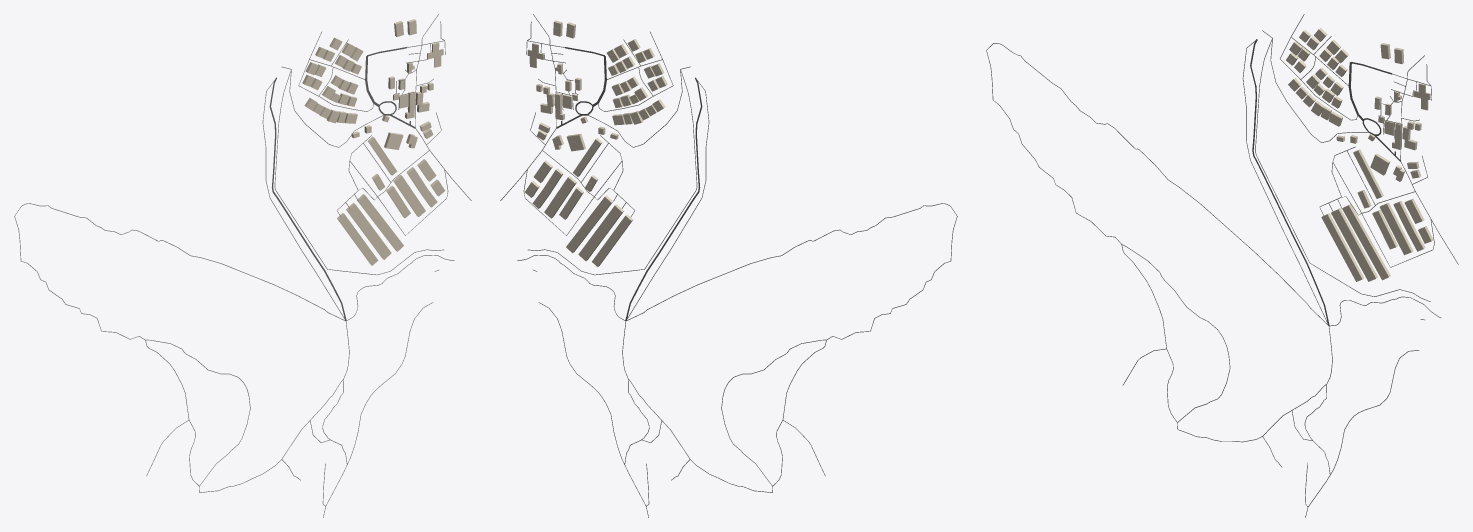
Rendered from historic-palestine-10_31_3517_3257.glb.
The picture shows the model from 3 angles, left to right: view 1: azimuth 30°, elevation 25°; view 2: azimuth 150°, elevation 25°; view 3: azimuth 330°, elevation 25°; orthographic projection. The views are drawn at different scales.
Visible parts, largest first — view 1: Building_.002, Building_.001, Building_.003, Road; view 2: Building_.002, Building_.001, Building_.003, Road; view 3: Building_.002, Building_.001, Building_.003, Road, Building_.049.
Boxes of the visible parts, x1,y1,x2,y2 form: Building_.002: (346,203,391,259); Building_.001: (357,194,403,251); Building_.003: (337,213,378,265); Road: (269,77,346,321); Building_.002: (578,204,623,260); Building_.001: (566,195,612,253); Building_.003: (592,214,633,266); Road: (625,77,702,321); Building_.002: (1331,208,1377,281); Building_.001: (1342,204,1390,280); Building_.003: (1321,213,1363,281); Road: (1250,39,1329,325); Building_.049: (1379,203,1413,255).
Bounding box in the file's own units: 1045 × 1064 × 8.7.
